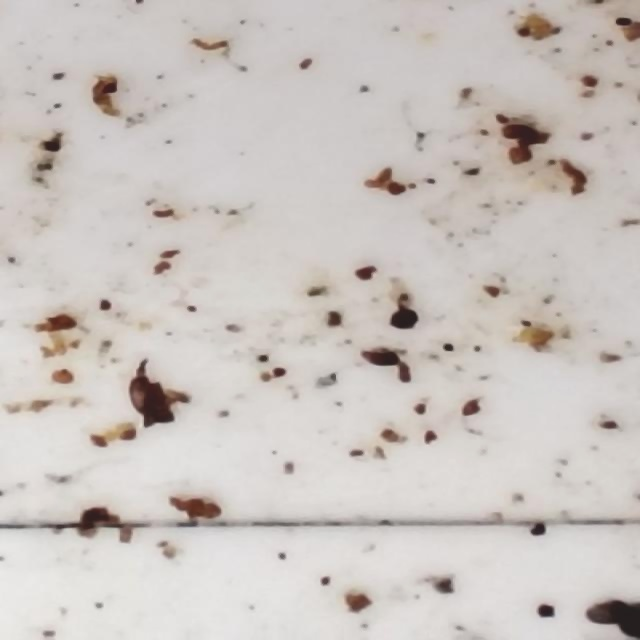varroa: (579, 599, 629, 626)
